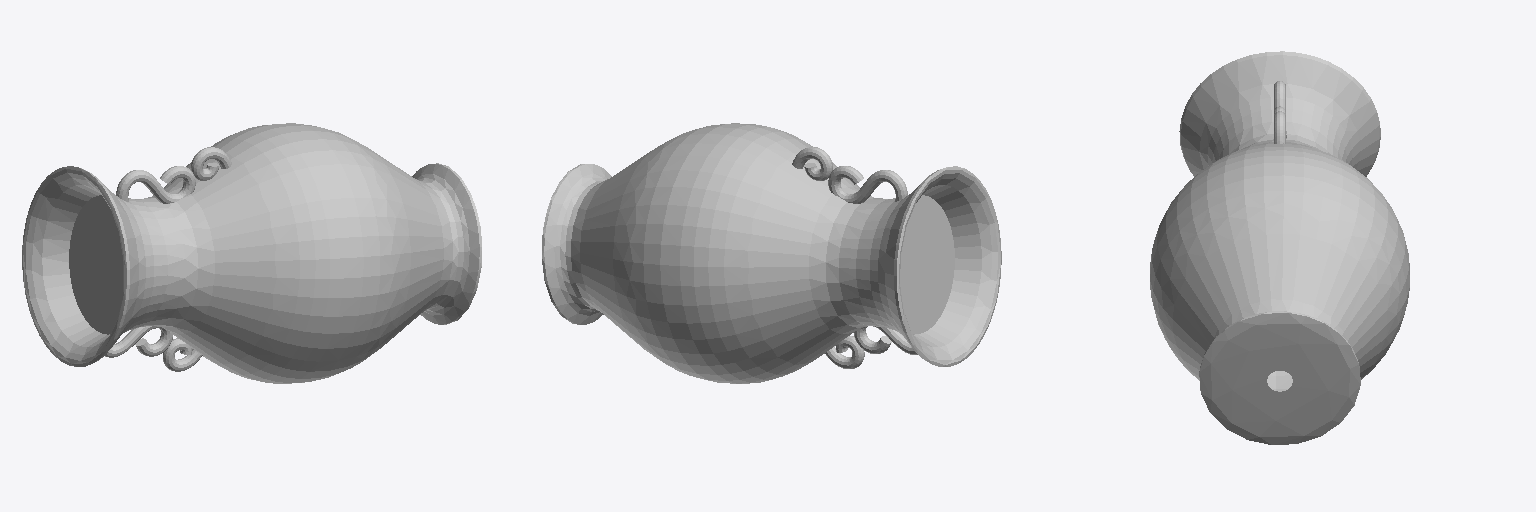
Rendered from vase_1.obj.
3 renders of one model, left to right at view 1: azimuth 30°, elevation 25°; view 2: azimuth 150°, elevation 25°; view 3: azimuth 270°, elevation 25°, orthographic.
Parts seen in each view (by area): view 1: vase_1; view 2: vase_1; view 3: vase_1.
Boxes of the visible parts, x1=… form: vase_1: x1=22, y1=123, x2=481, y2=383; vase_1: x1=542, y1=123, x2=1001, y2=383; vase_1: x1=1150, y1=51, x2=1409, y2=444.
Size of the model in its own units: 1.03 by 0.6209 by 0.5935.